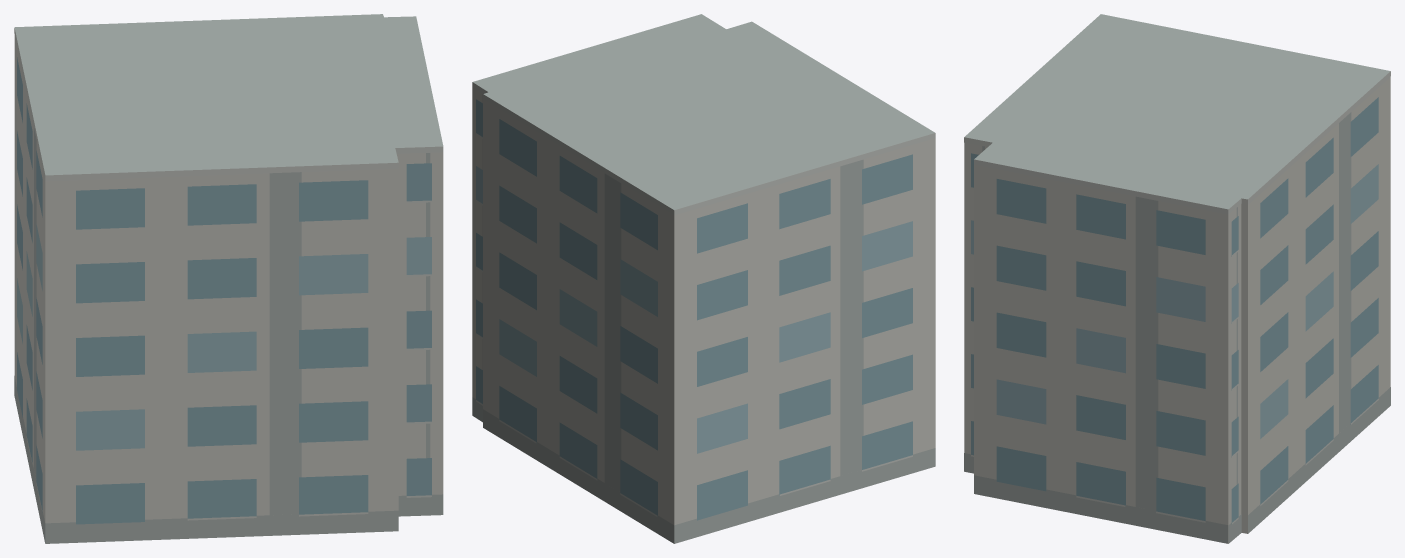
Rendered from survey-upis-32478307.glb.
The picture shows the model from 3 angles, left to right: view 1: azimuth 30°, elevation 25°; view 2: azimuth 150°, elevation 25°; view 3: azimuth 270°, elevation 25°; orthographic projection. The views are drawn at different scales.
Parts seen in each view (by area): view 1: survey-upis-32478307.tmp; view 2: survey-upis-32478307.tmp; view 3: survey-upis-32478307.tmp.
Boxes of the visible parts, x1=… form: survey-upis-32478307.tmp: x1=14, y1=14, x2=443, y2=543; survey-upis-32478307.tmp: x1=472, y1=14, x2=935, y2=543; survey-upis-32478307.tmp: x1=964, y1=14, x2=1390, y2=543.
Size of the model in its own units: 19.12 by 15.25 by 17.64.
